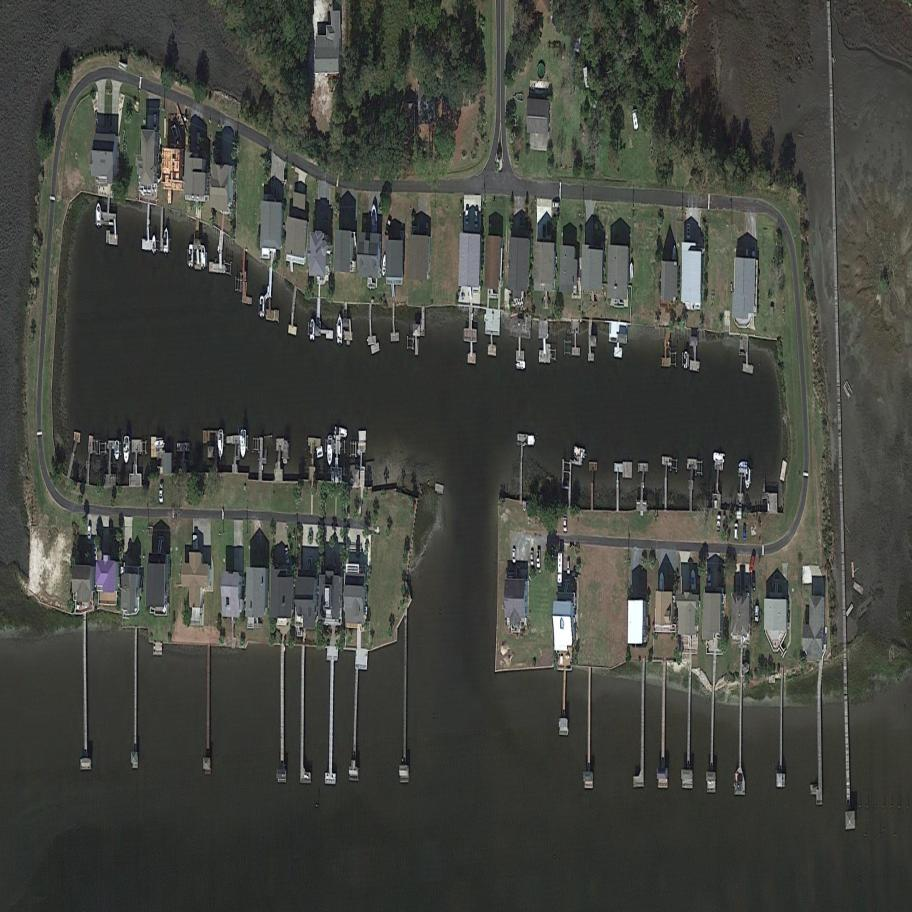ship: (330, 424, 352, 442), (326, 435, 334, 466), (631, 106, 640, 132), (371, 204, 378, 234), (336, 316, 343, 345), (187, 243, 194, 268), (123, 436, 129, 465), (241, 429, 247, 457), (712, 451, 727, 462), (113, 439, 120, 461), (309, 317, 315, 341), (163, 228, 169, 252), (381, 253, 387, 277), (200, 244, 206, 267), (259, 295, 265, 318), (659, 570, 664, 597), (218, 431, 223, 458), (745, 468, 751, 490), (96, 201, 101, 227), (683, 351, 689, 371), (691, 569, 696, 592), (154, 439, 165, 449), (515, 361, 527, 370), (152, 232, 157, 253), (738, 461, 747, 468)
small-vehicle: (383, 218, 393, 236), (748, 552, 756, 573), (284, 546, 290, 566), (751, 571, 756, 592), (537, 548, 542, 568), (754, 604, 759, 624), (707, 568, 712, 588), (687, 221, 692, 240), (159, 483, 164, 502), (464, 207, 469, 225), (752, 244, 757, 261), (734, 524, 739, 541), (742, 524, 747, 541), (563, 516, 568, 532), (566, 559, 571, 575), (475, 210, 479, 229), (717, 515, 721, 533), (87, 523, 91, 541), (547, 218, 551, 234), (513, 548, 517, 563), (531, 550, 535, 565), (552, 200, 560, 207), (542, 223, 545, 238), (94, 547, 97, 560)
